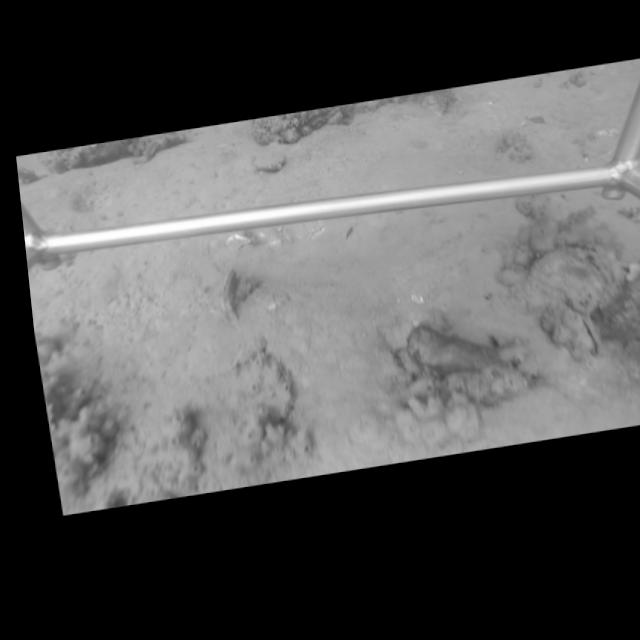Oyster-Closed: (222, 268, 241, 327)
Oyster-Indeterminate: (526, 246, 628, 310)
Oyster-Open: (564, 309, 603, 359), (249, 151, 287, 176)
